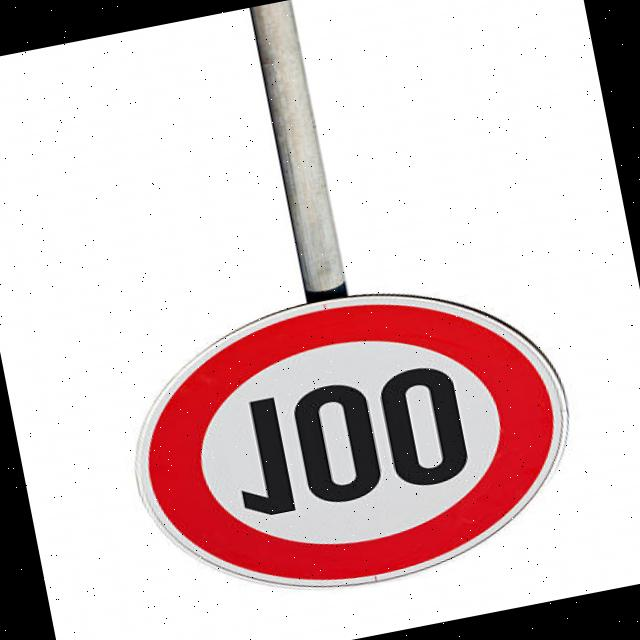speed_limit_100: (107, 253, 600, 628)
